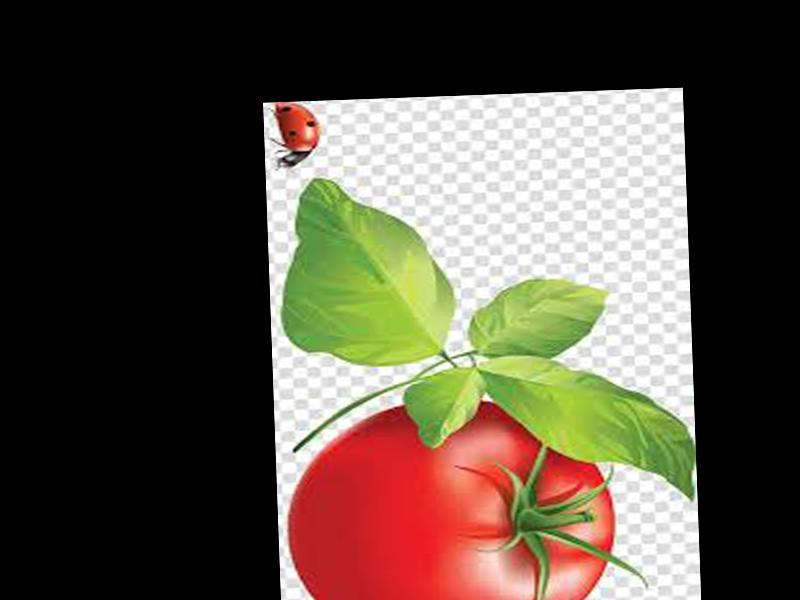Tomato: (283, 396, 619, 600)
